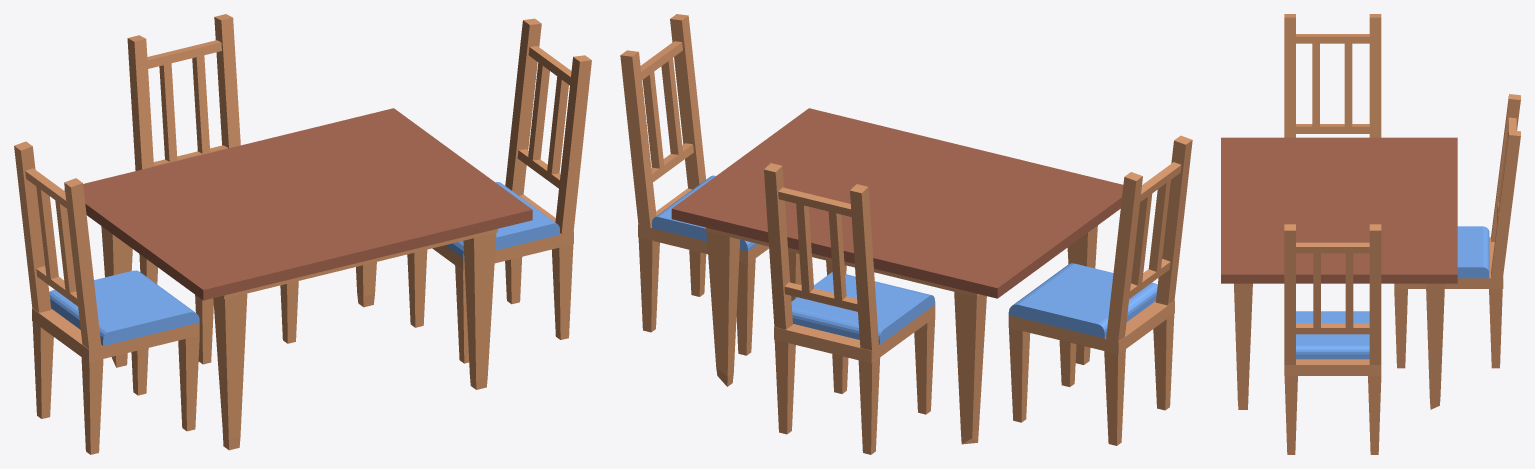
Rendered from chair-table.fbx.
The picture shows the model from 3 angles, left to right: view 1: azimuth 30°, elevation 25°; view 2: azimuth 150°, elevation 25°; view 3: azimuth 270°, elevation 25°; orthographic projection. The views are drawn at different scales.
Visible parts, largest first — view 1: Cube.036, Cube.039, Cube.040, Cube.042, Cube.037, Cube.038; view 2: Cube.036, Cube.042, Cube.039, Cube.040, Cube.037, Cube.041, Cube.038; view 3: Cube.036, Cube.040, Cube.039, Cube.042, Cube.038, Cube.041.
Part boxes in pixels (x1,y1,x2,y2): Cube.036: (64, 108, 532, 450); Cube.039: (14, 141, 199, 454); Cube.040: (407, 18, 591, 363); Cube.042: (127, 14, 298, 364); Cube.037: (49, 270, 199, 346); Cube.038: (445, 182, 559, 258); Cube.036: (671, 108, 1123, 444); Cube.042: (764, 163, 935, 454); Cube.039: (1008, 135, 1192, 445); Cube.040: (620, 14, 801, 355); Cube.037: (1008, 263, 1157, 338); Cube.041: (791, 272, 935, 344); Cube.038: (652, 175, 757, 251); Cube.036: (1221, 137, 1457, 409); Cube.040: (1284, 224, 1381, 454); Cube.039: (1284, 14, 1381, 137); Cube.042: (1394, 94, 1520, 368); Cube.038: (1296, 311, 1369, 359); Cube.041: (1457, 226, 1489, 278).
Size of the model in its own units: 690 by 350 by 404.
